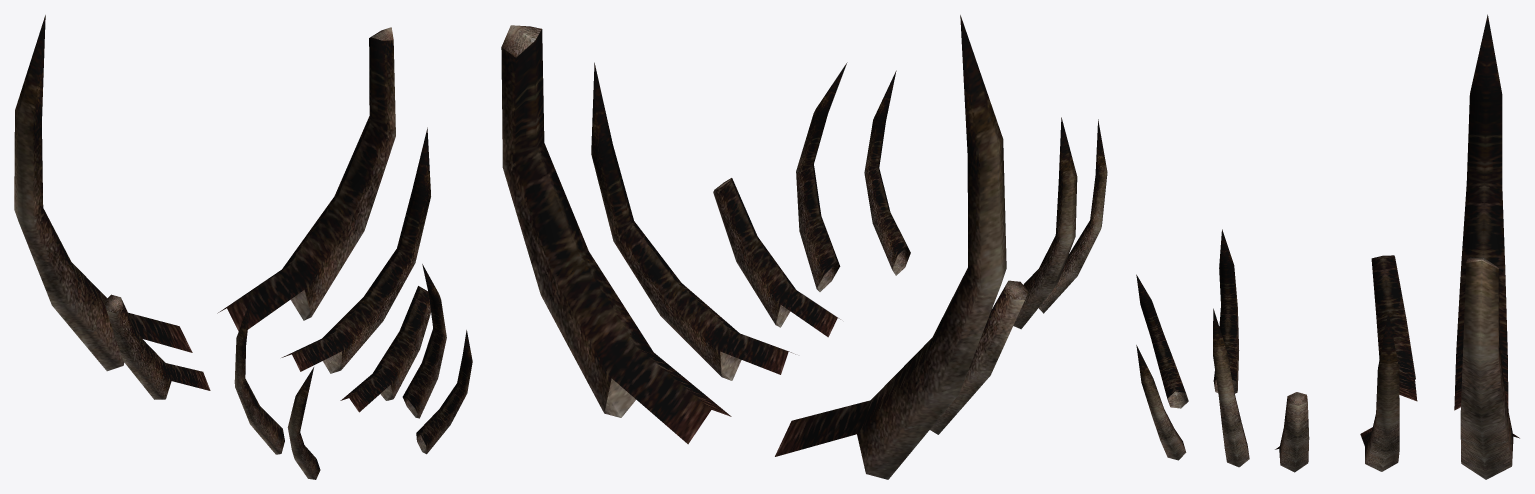
Rendered from ob-11-03-bonetunnel04_02.fbx.
The picture shows the model from 3 angles, left to right: view 1: azimuth 30°, elevation 25°; view 2: azimuth 150°, elevation 25°; view 3: azimuth 270°, elevation 25°; orthographic projection. The views are drawn at different scales.
Parts seen in each view (by area): view 1: Object01; view 2: Object01; view 3: Object01.
Boxes of the visible parts, x1,y1,x2,y2 form: Object01: [14, 15, 472, 479]; Object01: [501, 15, 1107, 479]; Object01: [1136, 14, 1519, 479].
Bounding box in the file's own units: 16.39 × 15.73 × 15.53.
